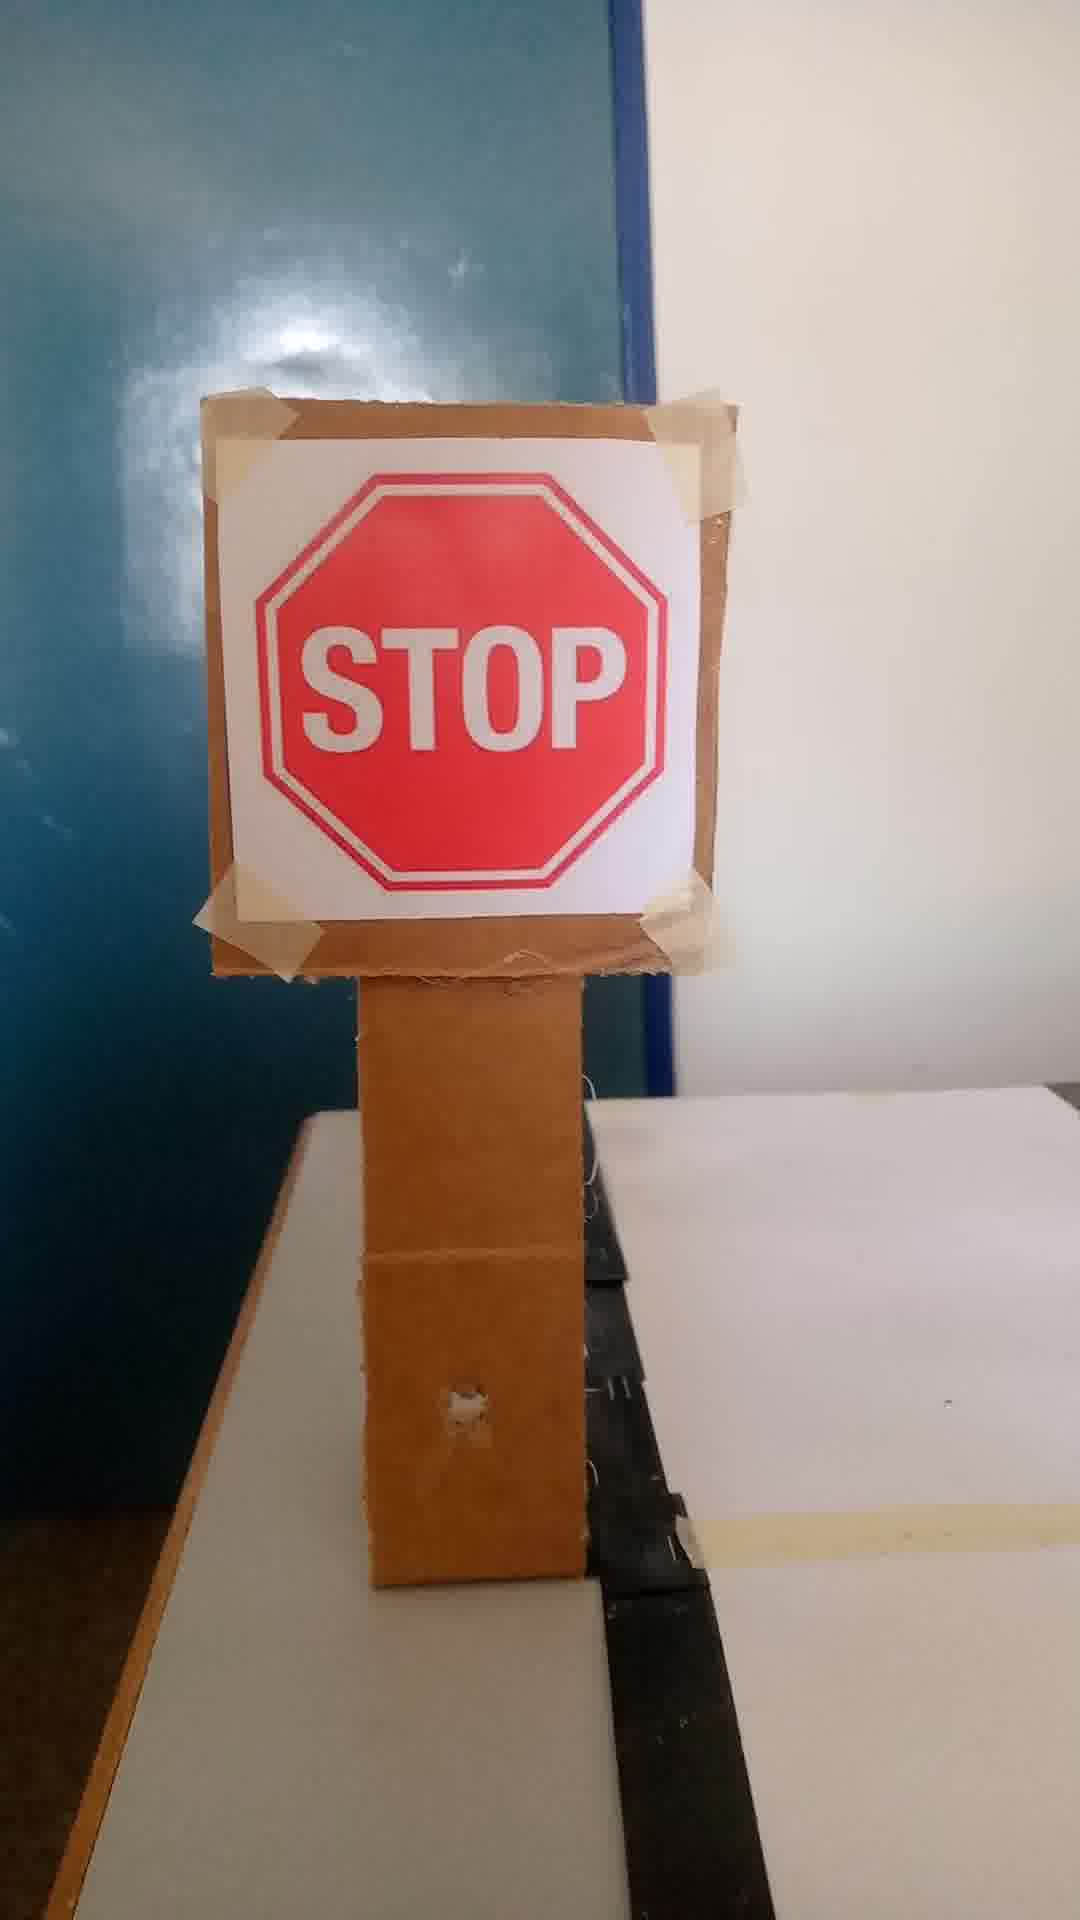panel101: (207, 436, 707, 926)
